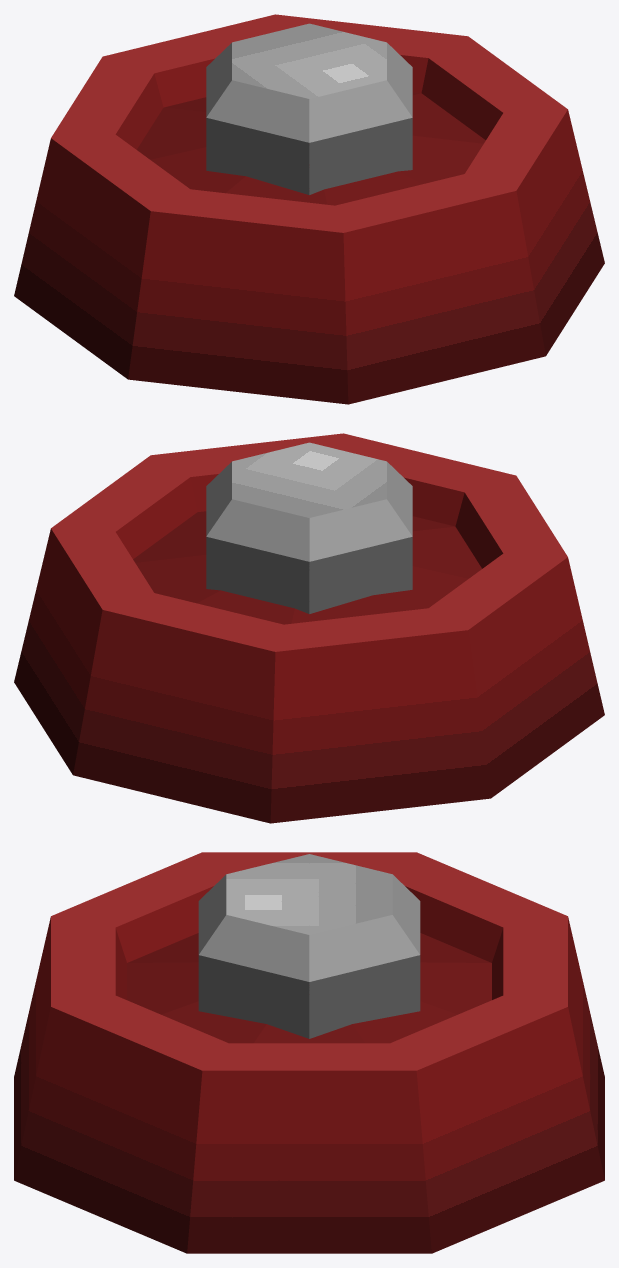
The model's file is mine.obj.
3 views of the same model, one above another, from view 1: azimuth 30°, elevation 25°; view 2: azimuth 150°, elevation 25°; view 3: azimuth 270°, elevation 25° (orthographic). The views are drawn at different scales.
Parts seen in each view (by area): view 1: cylinder; view 2: cylinder; view 3: cylinder.
Part boxes in pixels (<box>): cylinder: <box>14,14,604,404</box>; cylinder: <box>14,433,604,823</box>; cylinder: <box>14,852,604,1253</box>.
Bounding box in the file's own units: 1 × 0.4375 × 1.
